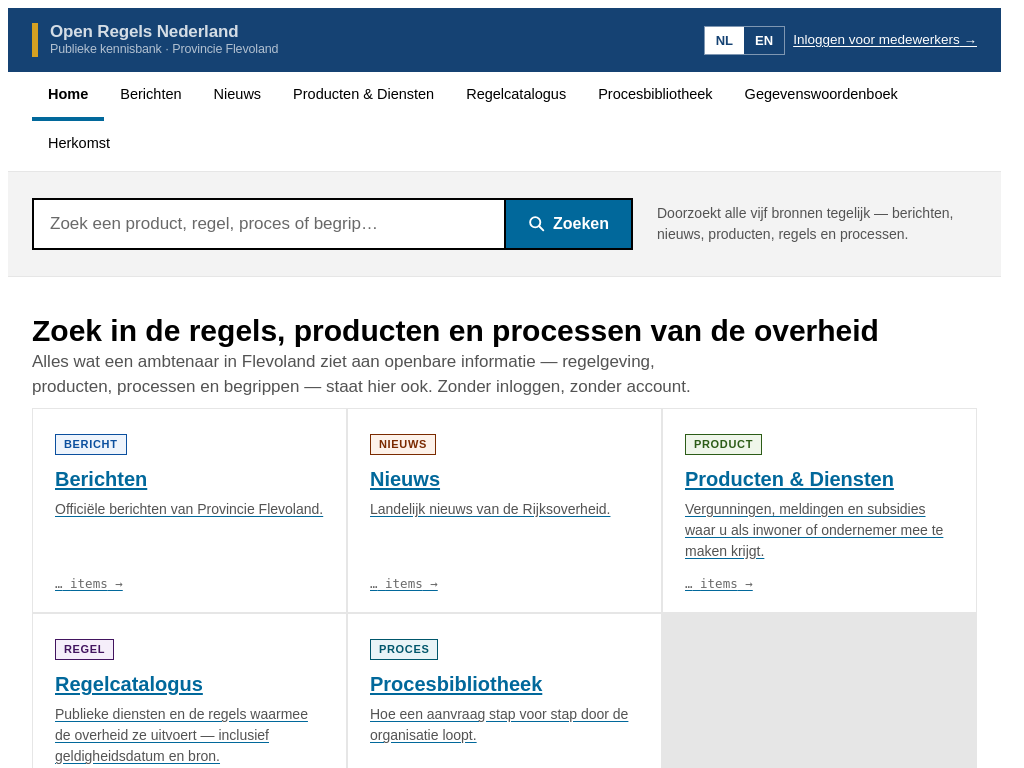
Scenario: App › switching language updates document.documentElement.lang and visible copy
Click the button "EN".
click(764, 40)  # box [744,26,784,54]
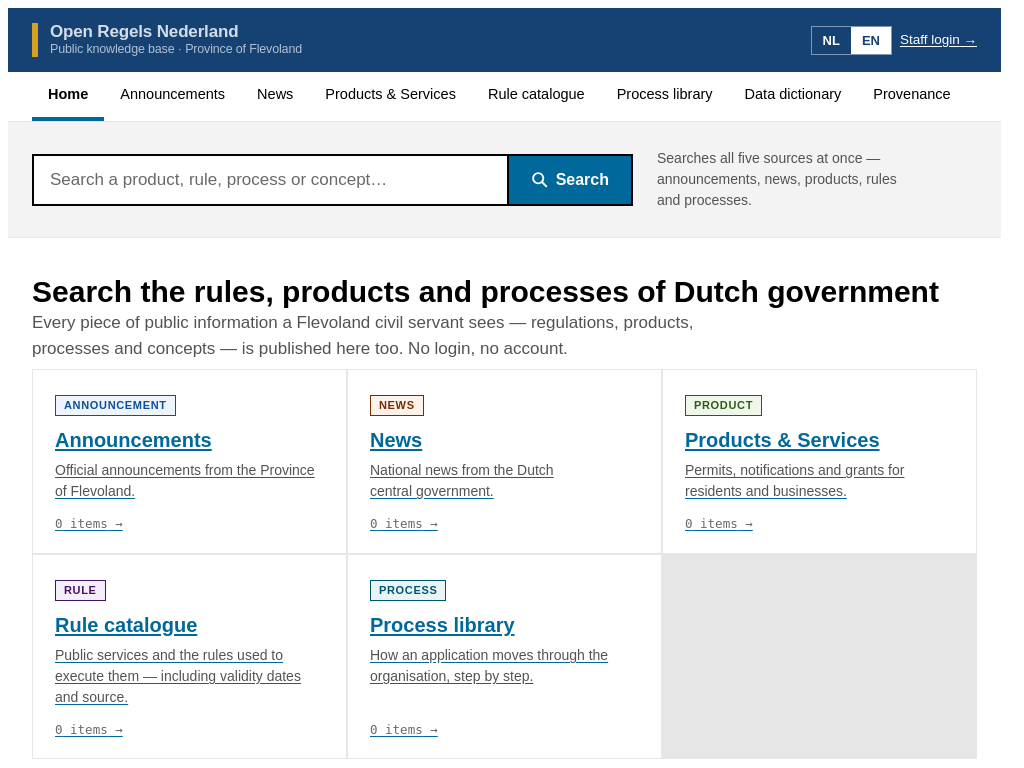
Result: the link "Rule catalogue" is shown at [33,555,346,758]
